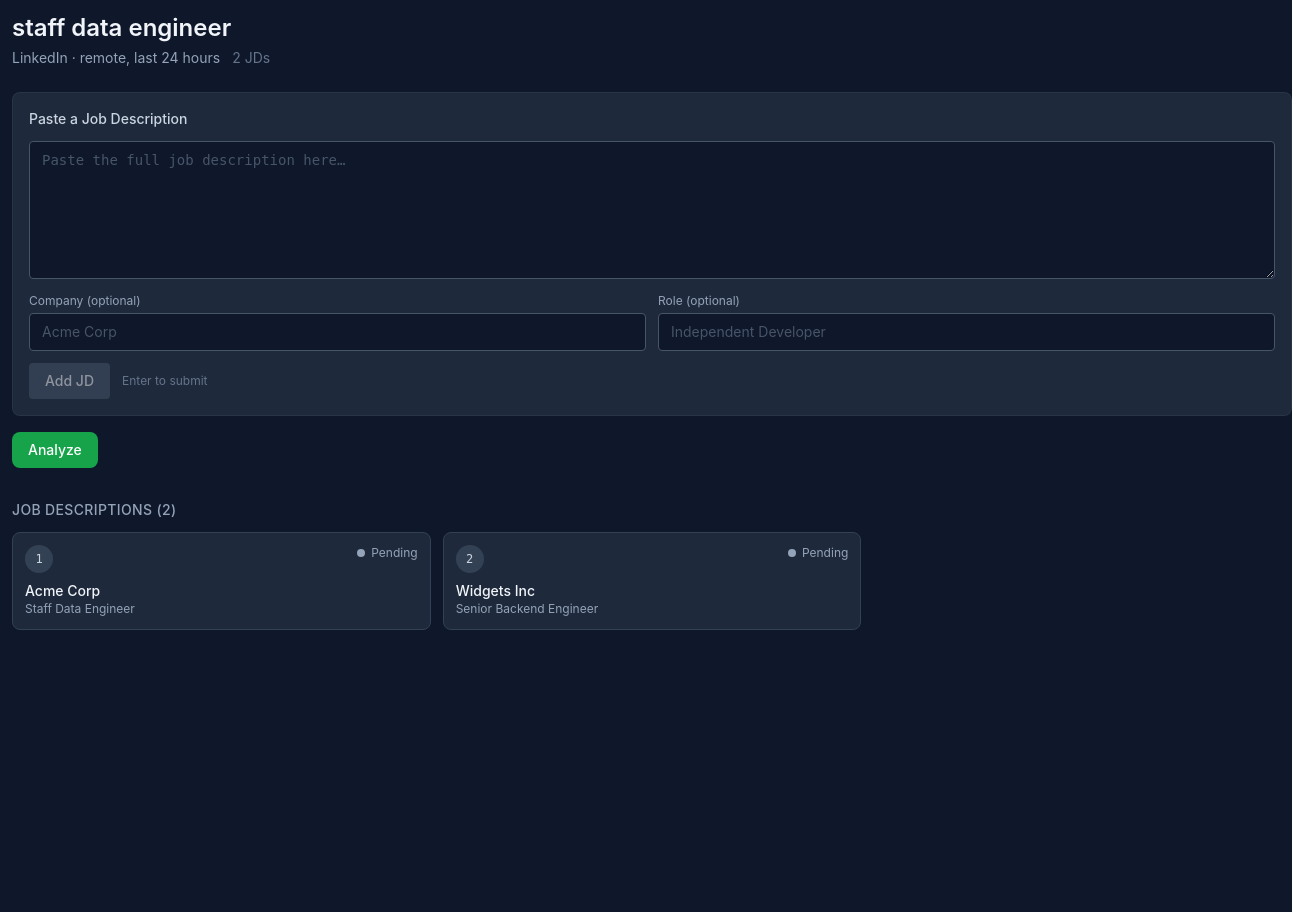
Test: SessionDetailPage — Analyze button › shows warning banner with link to /resumes on 422 no-resumes error
Click the button with test id "analyze-button". click: point(55, 450)
box: x1=12 y1=432 x2=98 y2=468
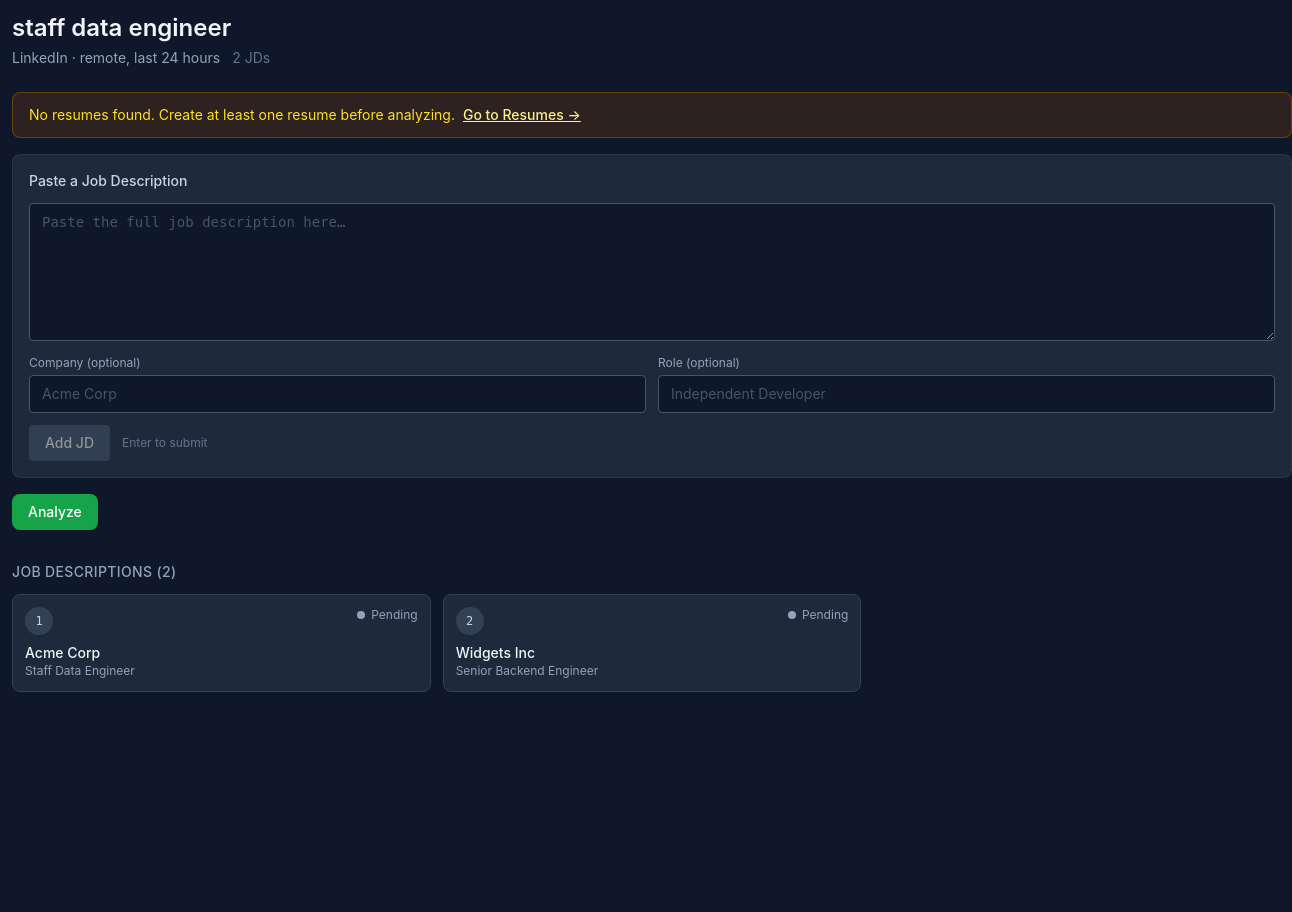
Check: the element with test id "warning-banner" is shown, box x1=12 y1=92 x2=1291 y2=138
Check: the text "No resumes found" is shown, box x1=29 y1=106 x2=455 y2=123
Check: the link "Go to Resumes →" is shown, box x1=463 y1=106 x2=581 y2=123
